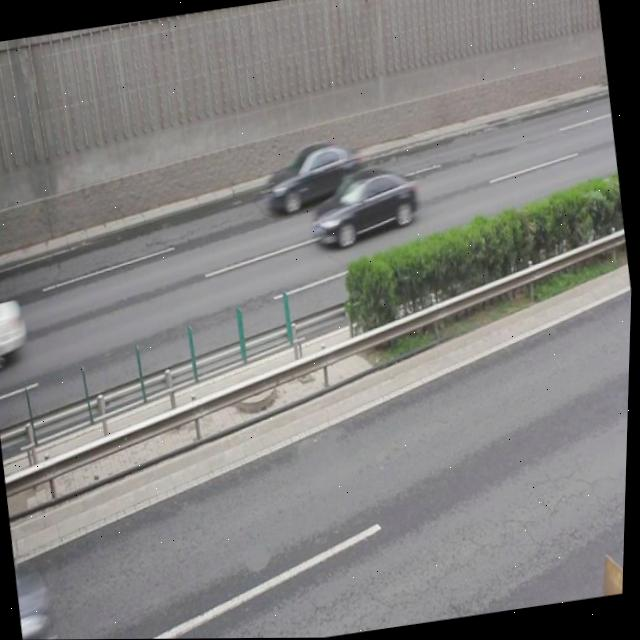car: (309, 170, 424, 254), (262, 135, 377, 213), (0, 290, 30, 368)
